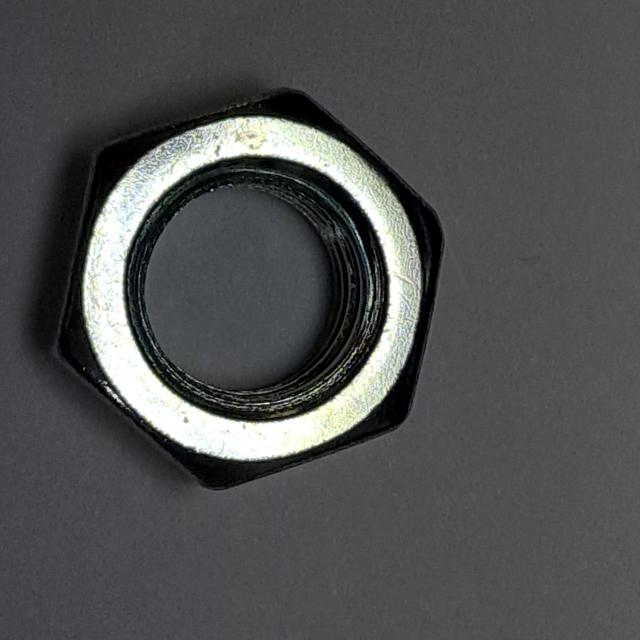Excellent: (39, 77, 457, 510)
